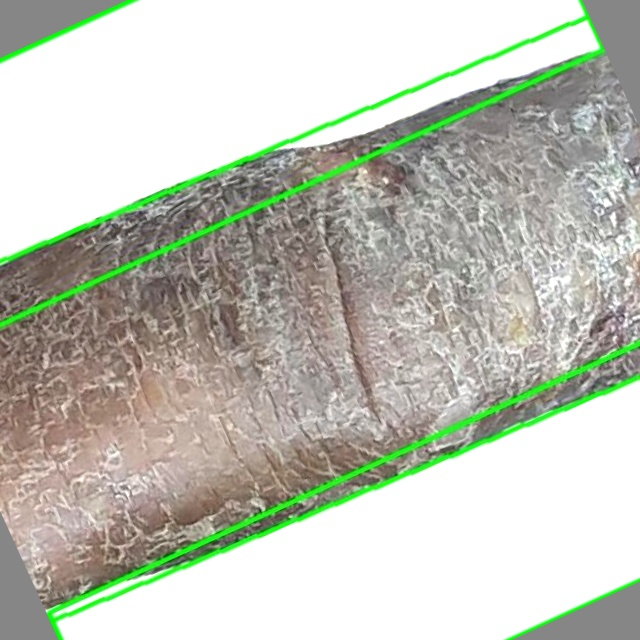Eczema: (0, 16, 639, 622), (0, 0, 603, 323)
